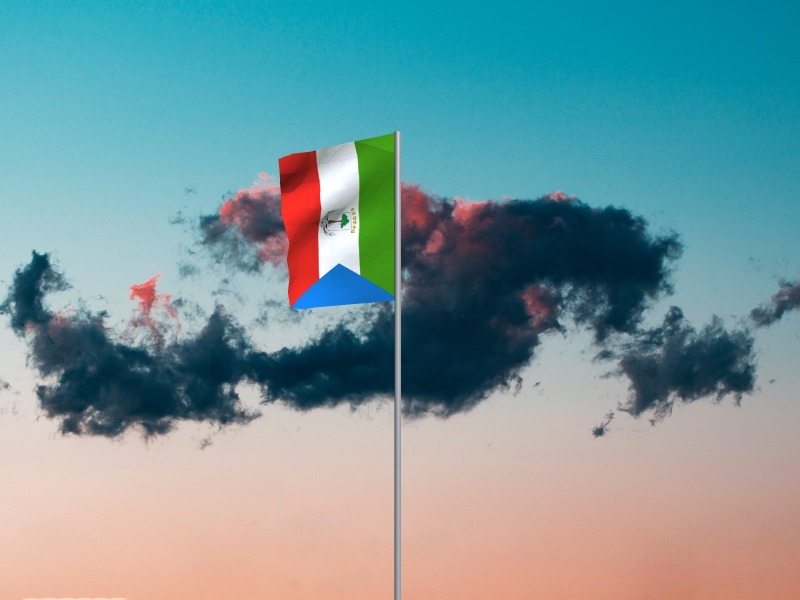gq: (278, 134, 395, 311)
